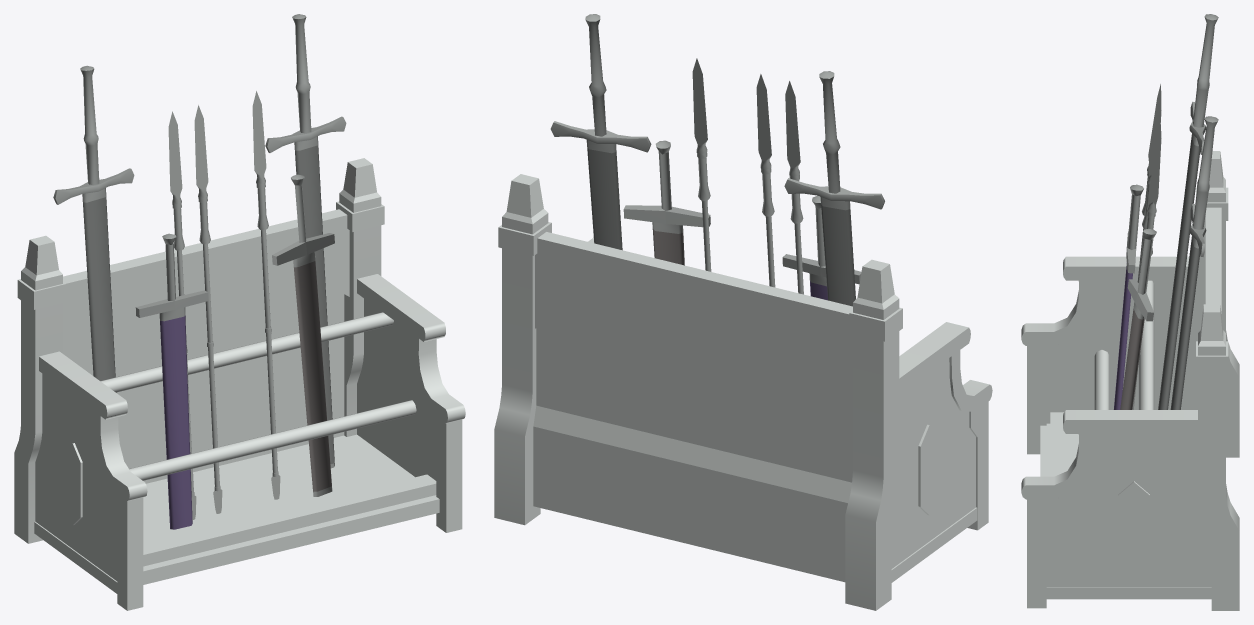
The picture shows the model from 3 angles, left to right: view 1: azimuth 30°, elevation 25°; view 2: azimuth 150°, elevation 25°; view 3: azimuth 270°, elevation 25°; orthographic projection. The views are drawn at different scales.
Visible parts, largest first — view 1: G:\FFXIV-MapTools\exports\n4f1\bg\ex3\01_nvt_n4\fld\n4f1\bgp (×4); view 2: G:\FFXIV-MapTools\exports\n4f1\bg\ex3\01_nvt_n4\fld\n4f1\bgp (×4); view 3: G:\FFXIV-MapTools\exports\n4f1\bg\ex3\01_nvt_n4\fld\n4f1\bgp (×5).
Part boxes in pixels (x1,y1,x2,y2): G:\FFXIV-MapTools\exports\n4f1\bg\ex3\01_nvt_n4\fld\n4f1\bgp (×4): (14, 14, 465, 610); G:\FFXIV-MapTools\exports\n4f1\bg\ex3\01_nvt_n4\fld\n4f1\bgp (×4): (494, 14, 992, 610); G:\FFXIV-MapTools\exports\n4f1\bg\ex3\01_nvt_n4\fld\n4f1\bgp (×5): (1021, 14, 1239, 610).
Size of the model in its own units: 2.14 by 2.71 by 1.17.
